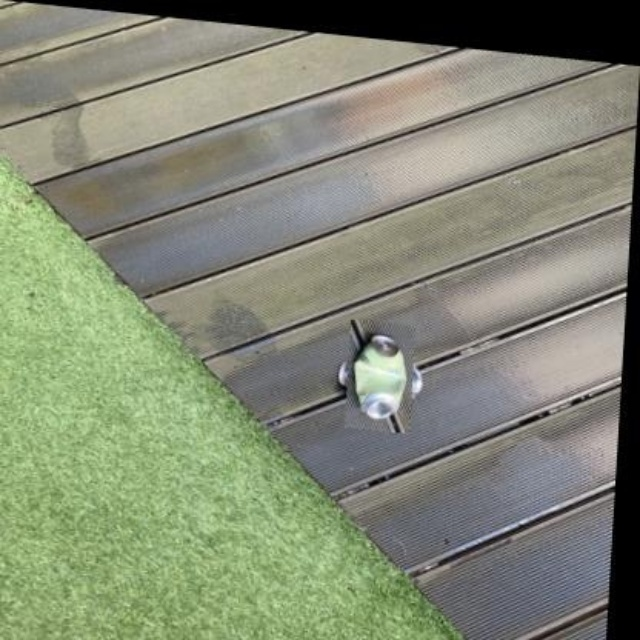trash: (354, 335, 405, 418)
